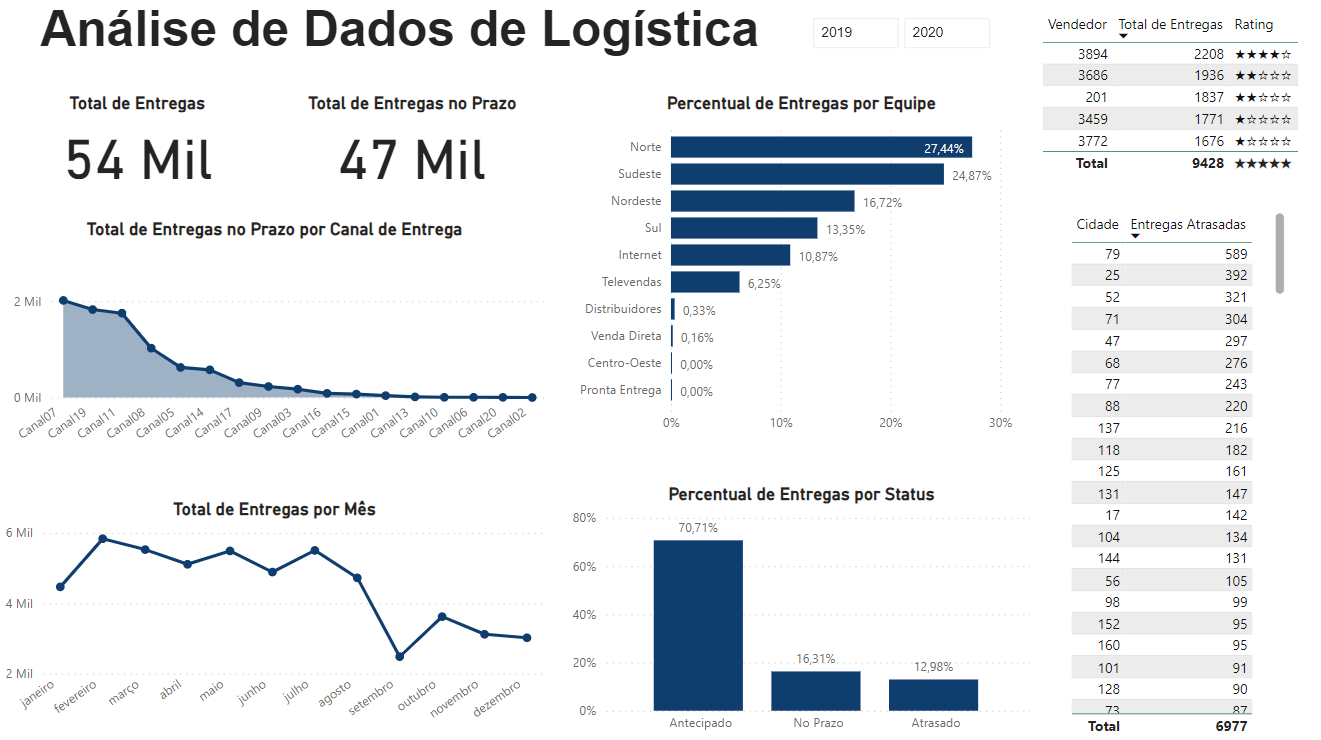

This screenshot's page, from the dashboard's own definition file:
{"tool":"powerbi","page":{"name":"Logística","canvas":[1280,720],"ordinal":0},"visuals":[{"type":"areaChart","title":"Total de Entregas no Prazo por Canal de Entrega","fields":{"Category":["Logistica.Canal_Entrega"],"Y":["Medidas.TotalEntregas"]},"box":[0,215.3,529.9,234.9],"z":0},{"type":"clusteredBarChart","title":"Percentual de Entregas por Equipe","fields":{"Category":["Logistica.Equipe_Entrega"],"Y":["Medidas.TotalEntregas"]},"box":[548.1,94,451.6,336.7],"z":1000},{"type":"lineChart","title":"Total de Entregas por Mês","fields":{"Category":["Logistica.Data_Entrega_Realizada.Variation.Hierarquia de datas.Mês"],"Y":["Medidas.TotalEntregas"]},"box":[0,485.5,529.9,234.9],"z":2000},{"type":"tableEx","fields":{"Values":["Logistica.ID_Vendedor","Medidas.TotalEntregas","Medidas.RatingVendedores"]},"box":[999.7,11.7,270.1,164.4],"z":2001},{"type":"tableEx","fields":{"Values":["Logistica.ID_Cidade","Medidas.TotalEntregas"]},"box":[1027.1,204.9,216.6,514.2],"z":2002},{"type":"columnChart","title":"Percentual de Entregas por Status","fields":{"Y":["Medidas.TotalEntregas"],"Category":["Logistica.Status_Entrega"]},"box":[548.1,471.1,451.6,249.3],"z":2003},{"type":"card","title":"Total de Entregas","fields":{"Values":["Medidas.TotalEntregas"]},"box":[0,94,264.9,95.3],"z":2004},{"type":"card","title":"Total de Entregas no Prazo","fields":{"Values":["Medidas.TotalEntregasPrazo"]},"box":[264.9,94,264.9,95.3],"z":2005},{"type":"textbox","box":[0,0,771.3,82.2],"z":2006},{"type":"slicer","fields":{"Values":["Logistica.Data_Entrega_Realizada.Variation.Hierarquia de datas.Ano"]},"box":[771.3,11.7,191.8,45.7],"z":2007}]}

Visuals, with their boxes in screenshot pixels (x1, y1, x2, y2), scaled from the page's 1280x720 canvas onto the 1321x740 screenshot:
"Total de Entregas no Prazo por Canal de Entrega" areaChart: region(0, 221, 547, 463)
"Percentual de Entregas por Equipe" clusteredBarChart: region(566, 97, 1032, 443)
"Total de Entregas por Mês" lineChart: region(0, 499, 547, 739)
tableEx - Logistica.ID_Vendedor x Medidas.TotalEntregas: region(1032, 12, 1310, 181)
tableEx - Logistica.ID_Cidade x Medidas.TotalEntregas: region(1060, 211, 1284, 739)
"Percentual de Entregas por Status" columnChart: region(566, 484, 1032, 739)
"Total de Entregas" card: region(0, 97, 273, 195)
"Total de Entregas no Prazo" card: region(273, 97, 547, 195)
textbox: region(0, 0, 796, 84)
slicer - Logistica.Data_Entrega_Realizada.Variation.Hierarquia de datas.Ano: region(796, 12, 994, 59)
